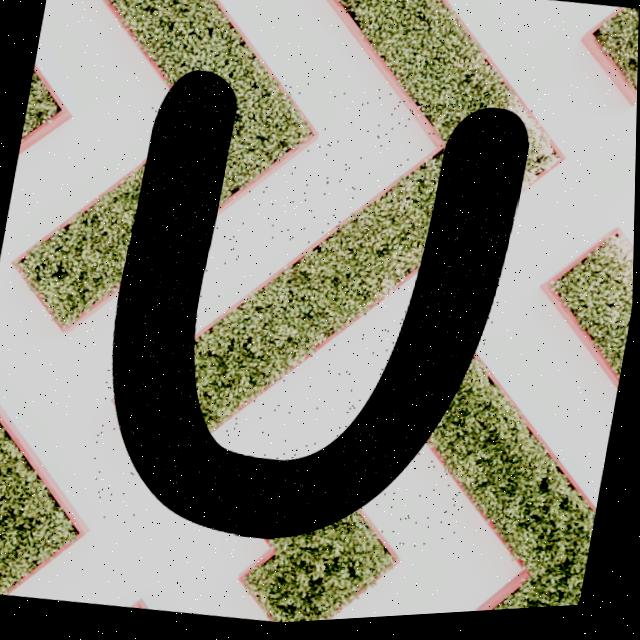U: (115, 75, 529, 542)
